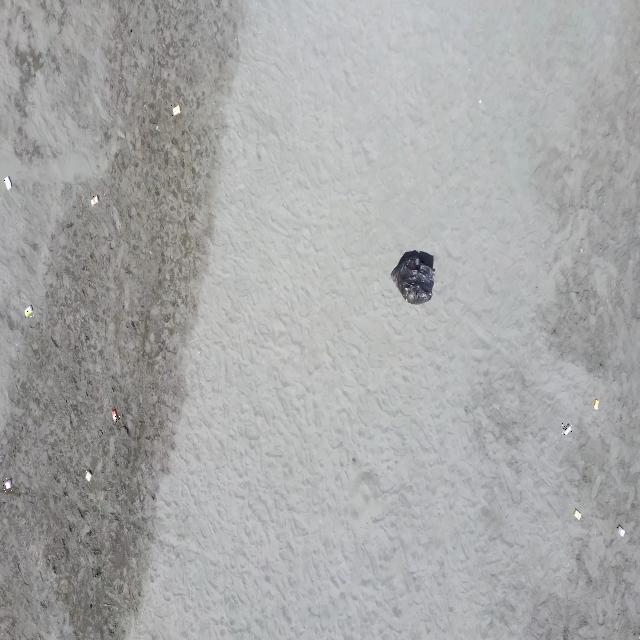Garbage: (391, 251, 432, 303), (111, 407, 128, 433), (3, 477, 12, 492), (111, 407, 119, 423), (562, 423, 571, 435), (24, 304, 32, 316), (172, 103, 180, 115), (91, 193, 98, 206), (572, 508, 580, 519), (616, 524, 624, 535), (4, 176, 11, 188), (84, 468, 91, 480), (592, 399, 597, 409), (477, 99, 482, 103)
